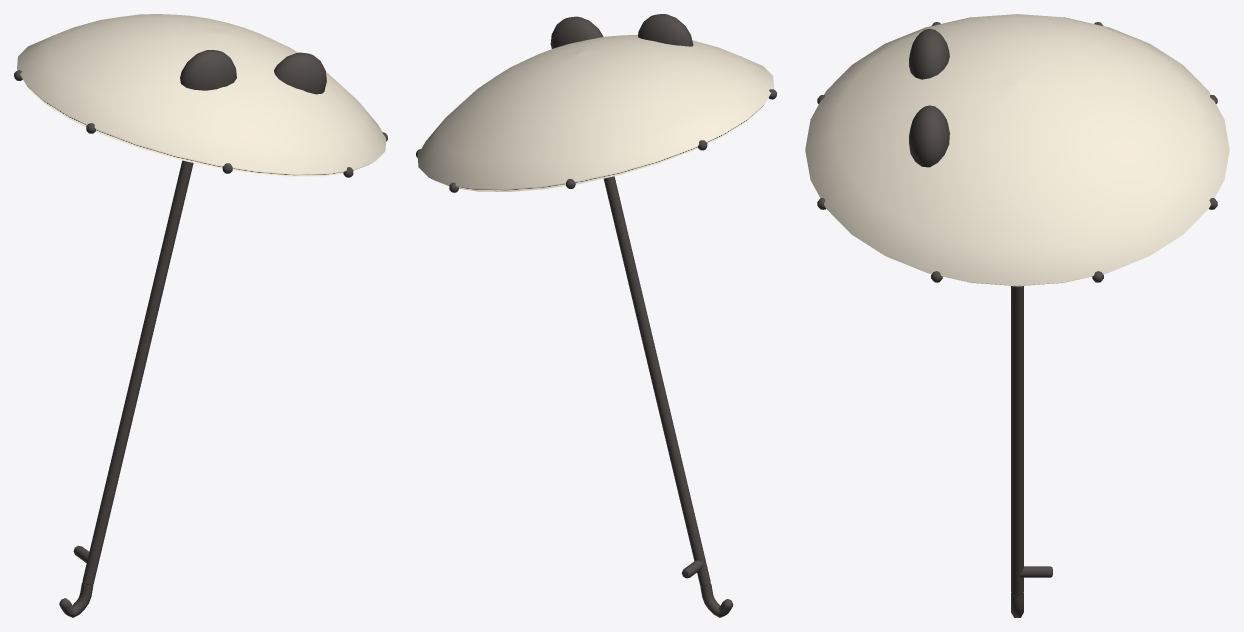
The model's file is panda_umbrella.glb.
The picture shows the model from 3 angles, left to right: view 1: azimuth 30°, elevation 25°; view 2: azimuth 150°, elevation 25°; view 3: azimuth 270°, elevation 25°; orthographic projection. The views are drawn at different scales.
Visible parts, largest first — view 1: panda_umbrella_ArmR; view 2: panda_umbrella_ArmR; view 3: panda_umbrella_ArmR.
Part boxes in pixels (left/top/right/bottom): panda_umbrella_ArmR: left=14, top=14, right=387, bottom=617; panda_umbrella_ArmR: left=416, top=14, right=776, bottom=617; panda_umbrella_ArmR: left=805, top=14, right=1229, bottom=617.
Size of the model in its own units: 0.8703 by 1.49 by 0.9.
